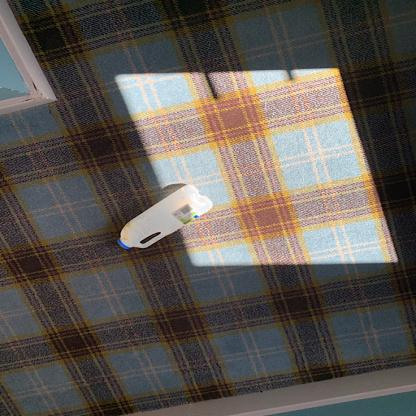trash: (112, 185, 216, 255)
